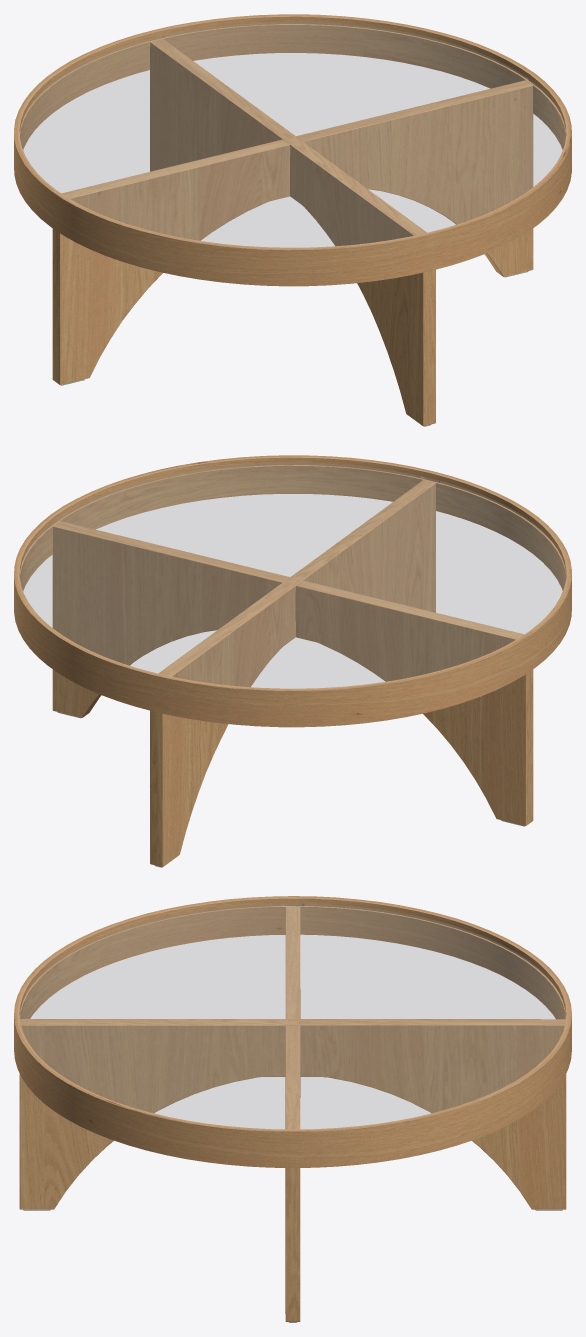
Rendered from stockholm_2025_stolik_kawowy_20586552.glb.
The picture shows the model from 3 angles, top to bottom: view 1: azimuth 30°, elevation 25°; view 2: azimuth 150°, elevation 25°; view 3: azimuth 270°, elevation 25°; orthographic projection.
Visible parts, largest first — view 1: stockholm_2025_stolik_kawowy_20586552; view 2: stockholm_2025_stolik_kawowy_20586552; view 3: stockholm_2025_stolik_kawowy_20586552.
Boxes of the visible parts, <box> form: stockholm_2025_stolik_kawowy_20586552: <box>14,14,571,426</box>; stockholm_2025_stolik_kawowy_20586552: <box>14,455,571,867</box>; stockholm_2025_stolik_kawowy_20586552: <box>14,896,571,1322</box>.
Size of the model in its own units: 0.973 by 0.376 by 0.973.
2 materials, 2 textured.
